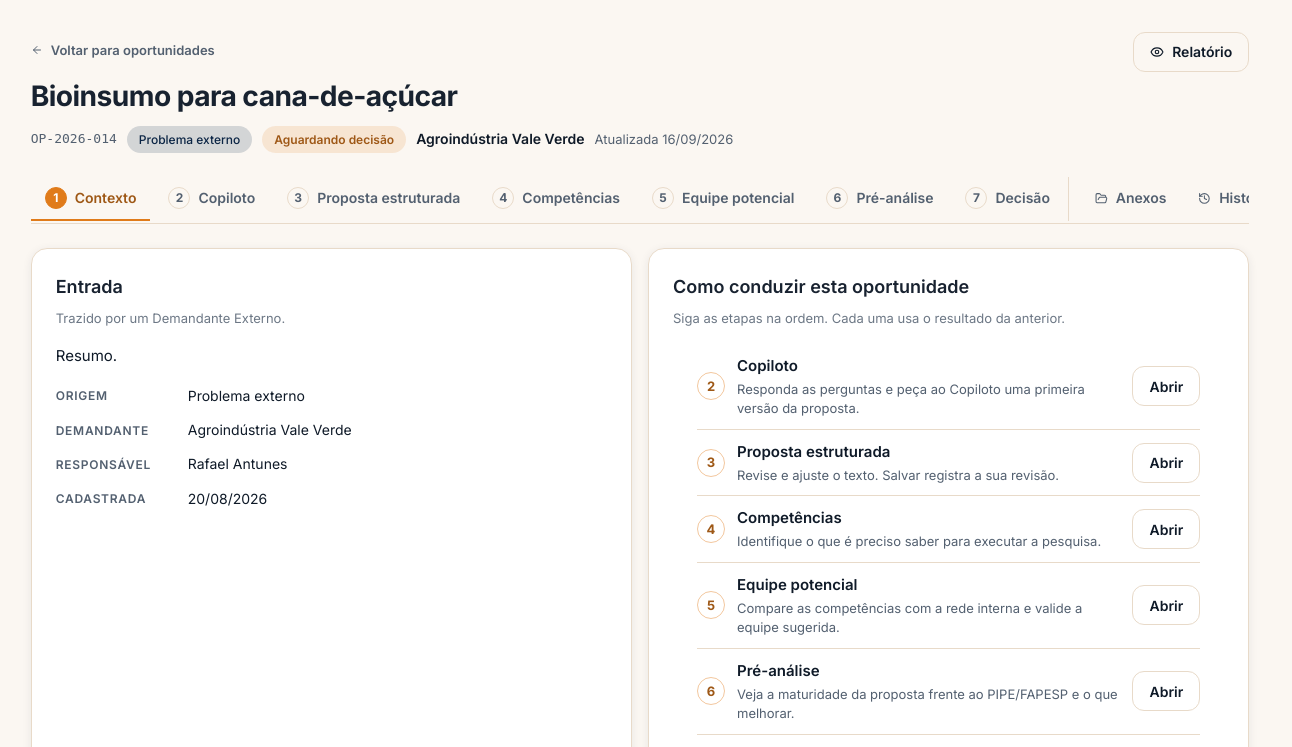
it: OportunidadePage — rodada do Copiloto › atualiza a oportunidade sem desmontar a aba nem perder o resultado
The width and height of the screenshot is (1292, 747).
Click the button "2 Copiloto": {"x": 212, "y": 199} top-left (154, 177), bottom-right (269, 221)
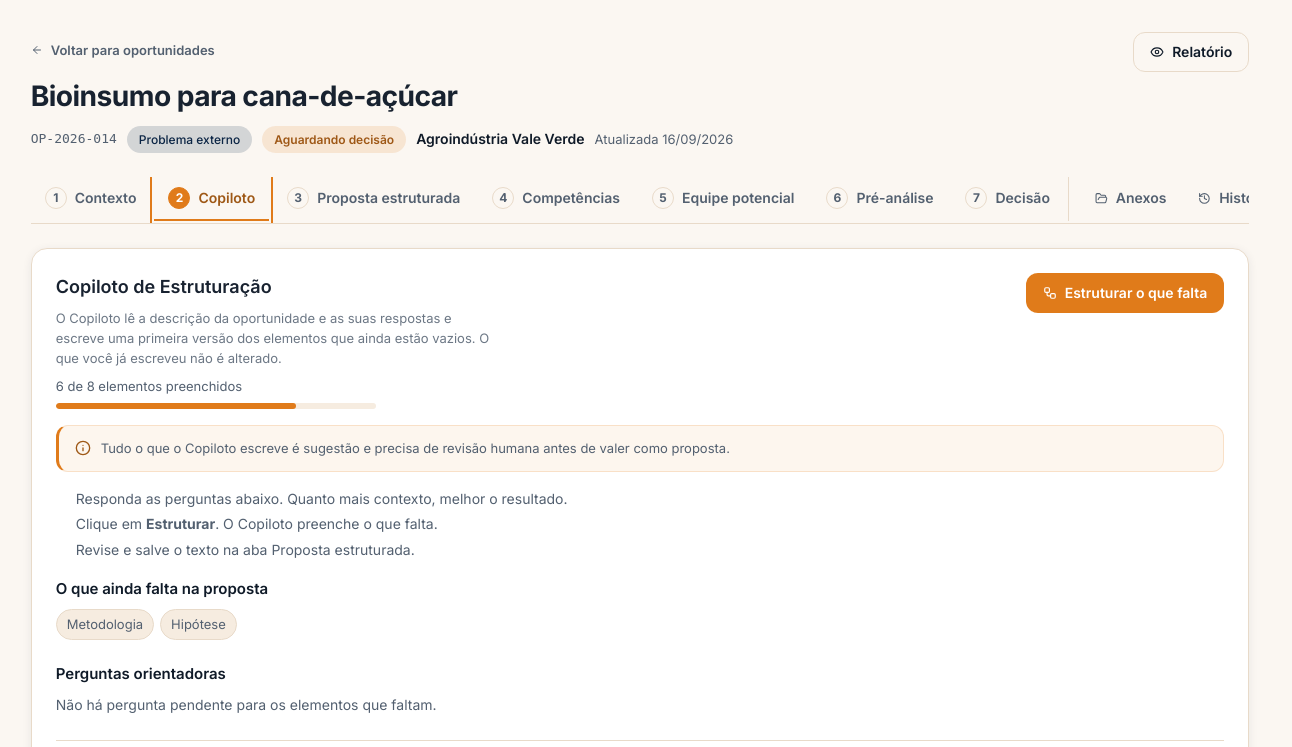
Click the button "Estruturar o que falta": {"x": 1125, "y": 293} top-left (1026, 273), bottom-right (1224, 313)
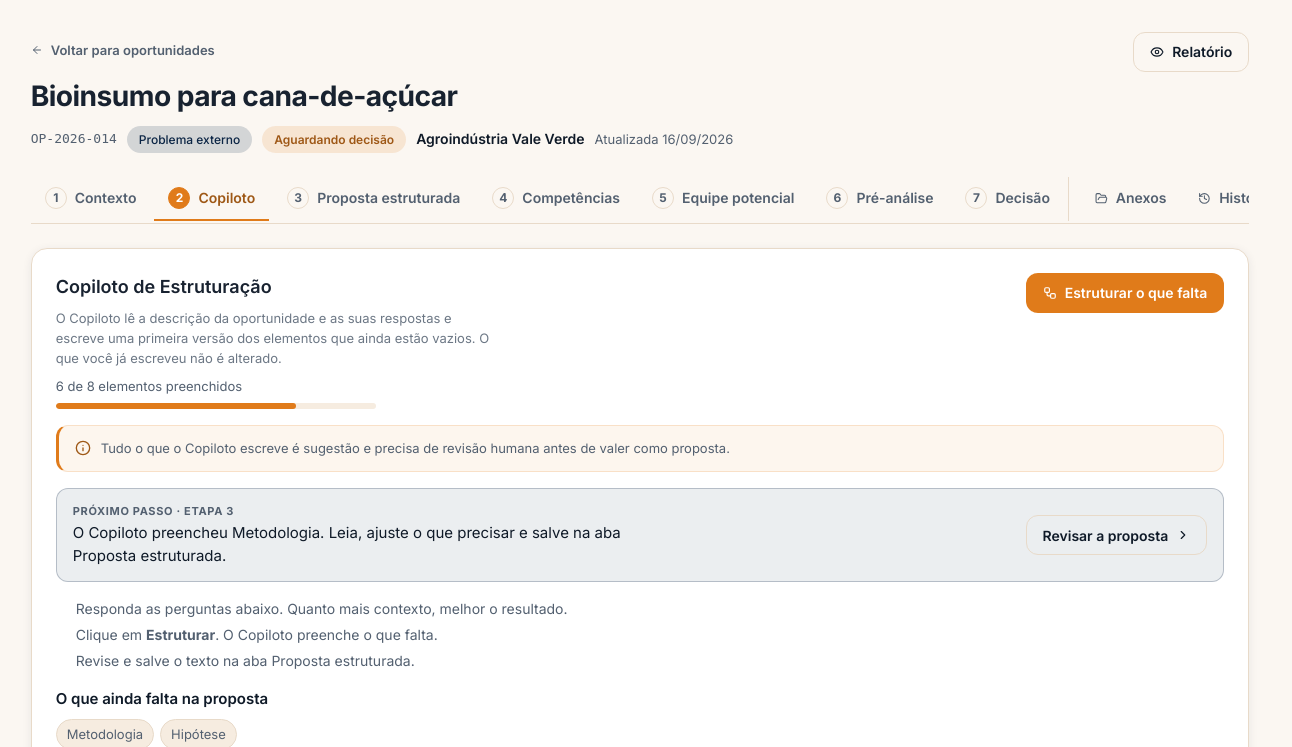
Check: the text "O Copiloto preencheu Metodologia" is shown, box top-left (73, 523), bottom-right (621, 565)
